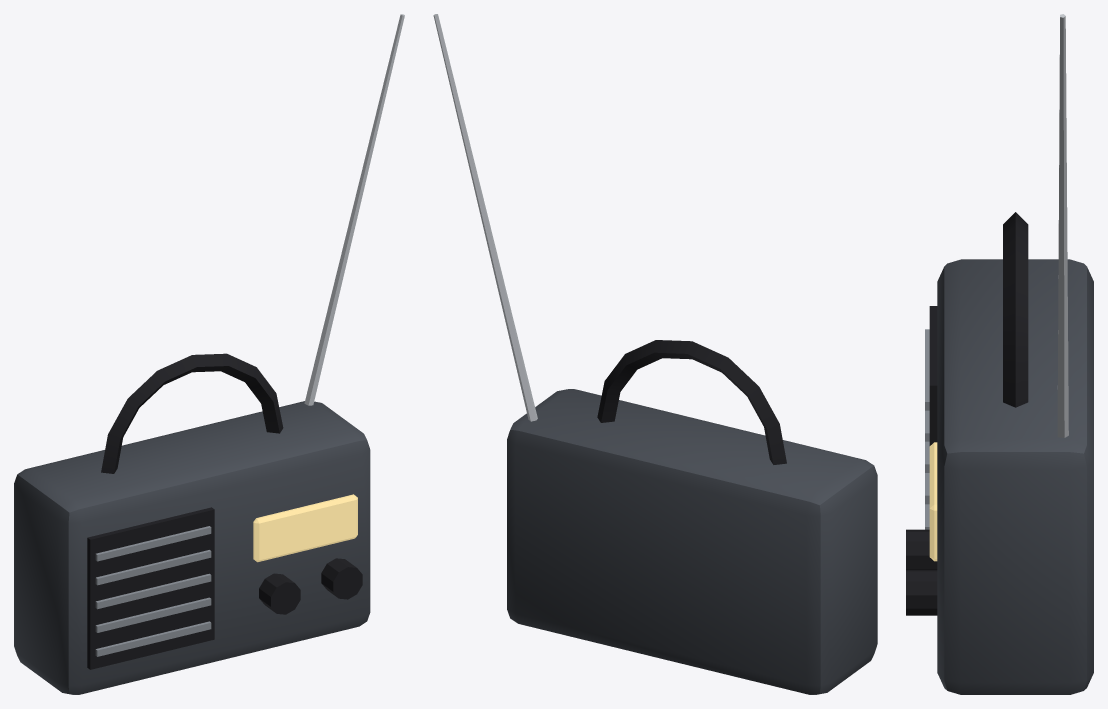
Rendered from SM_Radio.glb.
The picture shows the model from 3 angles, left to right: view 1: azimuth 30°, elevation 25°; view 2: azimuth 150°, elevation 25°; view 3: azimuth 270°, elevation 25°; orthographic projection. The views are drawn at different scales.
Parts seen in each view (by area): view 1: SM_Radio; view 2: SM_Radio; view 3: SM_Radio.
Boxes of the visible parts, <box> form: SM_Radio: <box>14,14,404,694</box>; SM_Radio: <box>433,14,877,694</box>; SM_Radio: <box>906,14,1093,694</box>.
Bounding box in the file's own units: 0.3724 × 0.5186 × 0.12.
2 materials, 2 textured.
